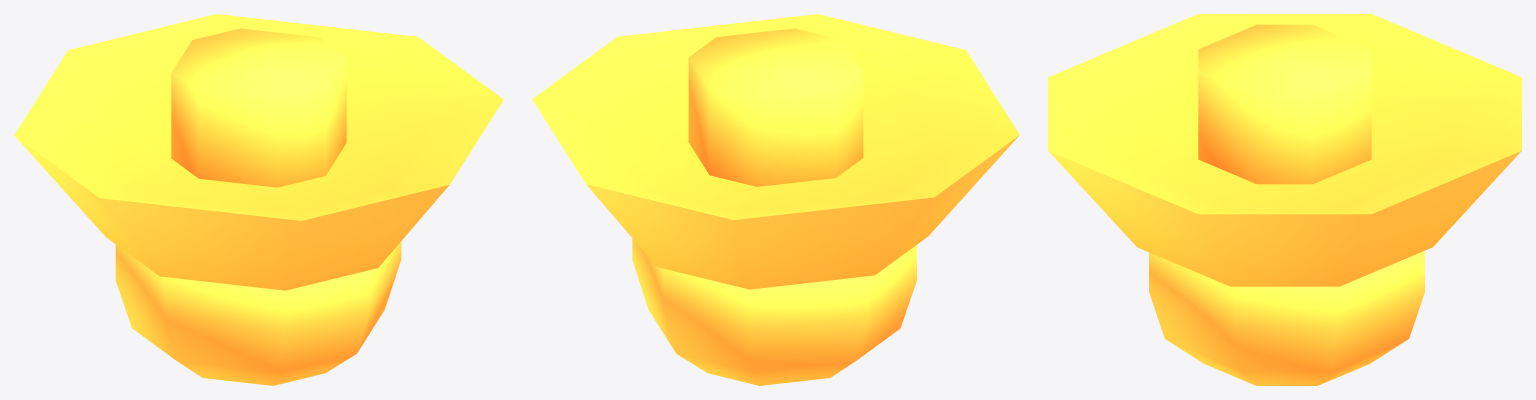
The model's file is gold_pommel_017.glb.
The picture shows the model from 3 angles, left to right: view 1: azimuth 30°, elevation 25°; view 2: azimuth 150°, elevation 25°; view 3: azimuth 270°, elevation 25°; orthographic projection.
Parts seen in each view (by area): view 1: gold_pommel_017; view 2: gold_pommel_017; view 3: gold_pommel_017.
Boxes of the visible parts, left/top/right/bottom form: gold_pommel_017: left=14, top=14, right=503, bottom=385; gold_pommel_017: left=532, top=14, right=1019, bottom=385; gold_pommel_017: left=1048, top=14, right=1521, bottom=385.
Bounding box in the file's own units: 2.38 × 1.67 × 2.38.
Materials: 1 (1 with a texture image).
